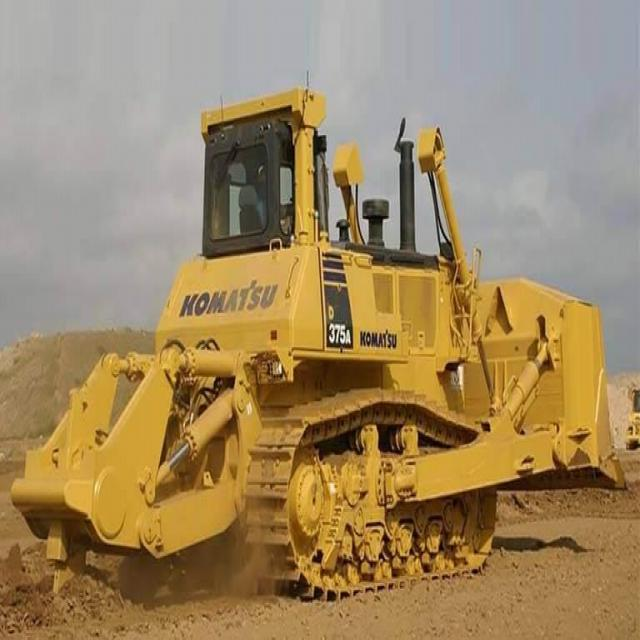Bulldozer: (18, 80, 640, 600)
